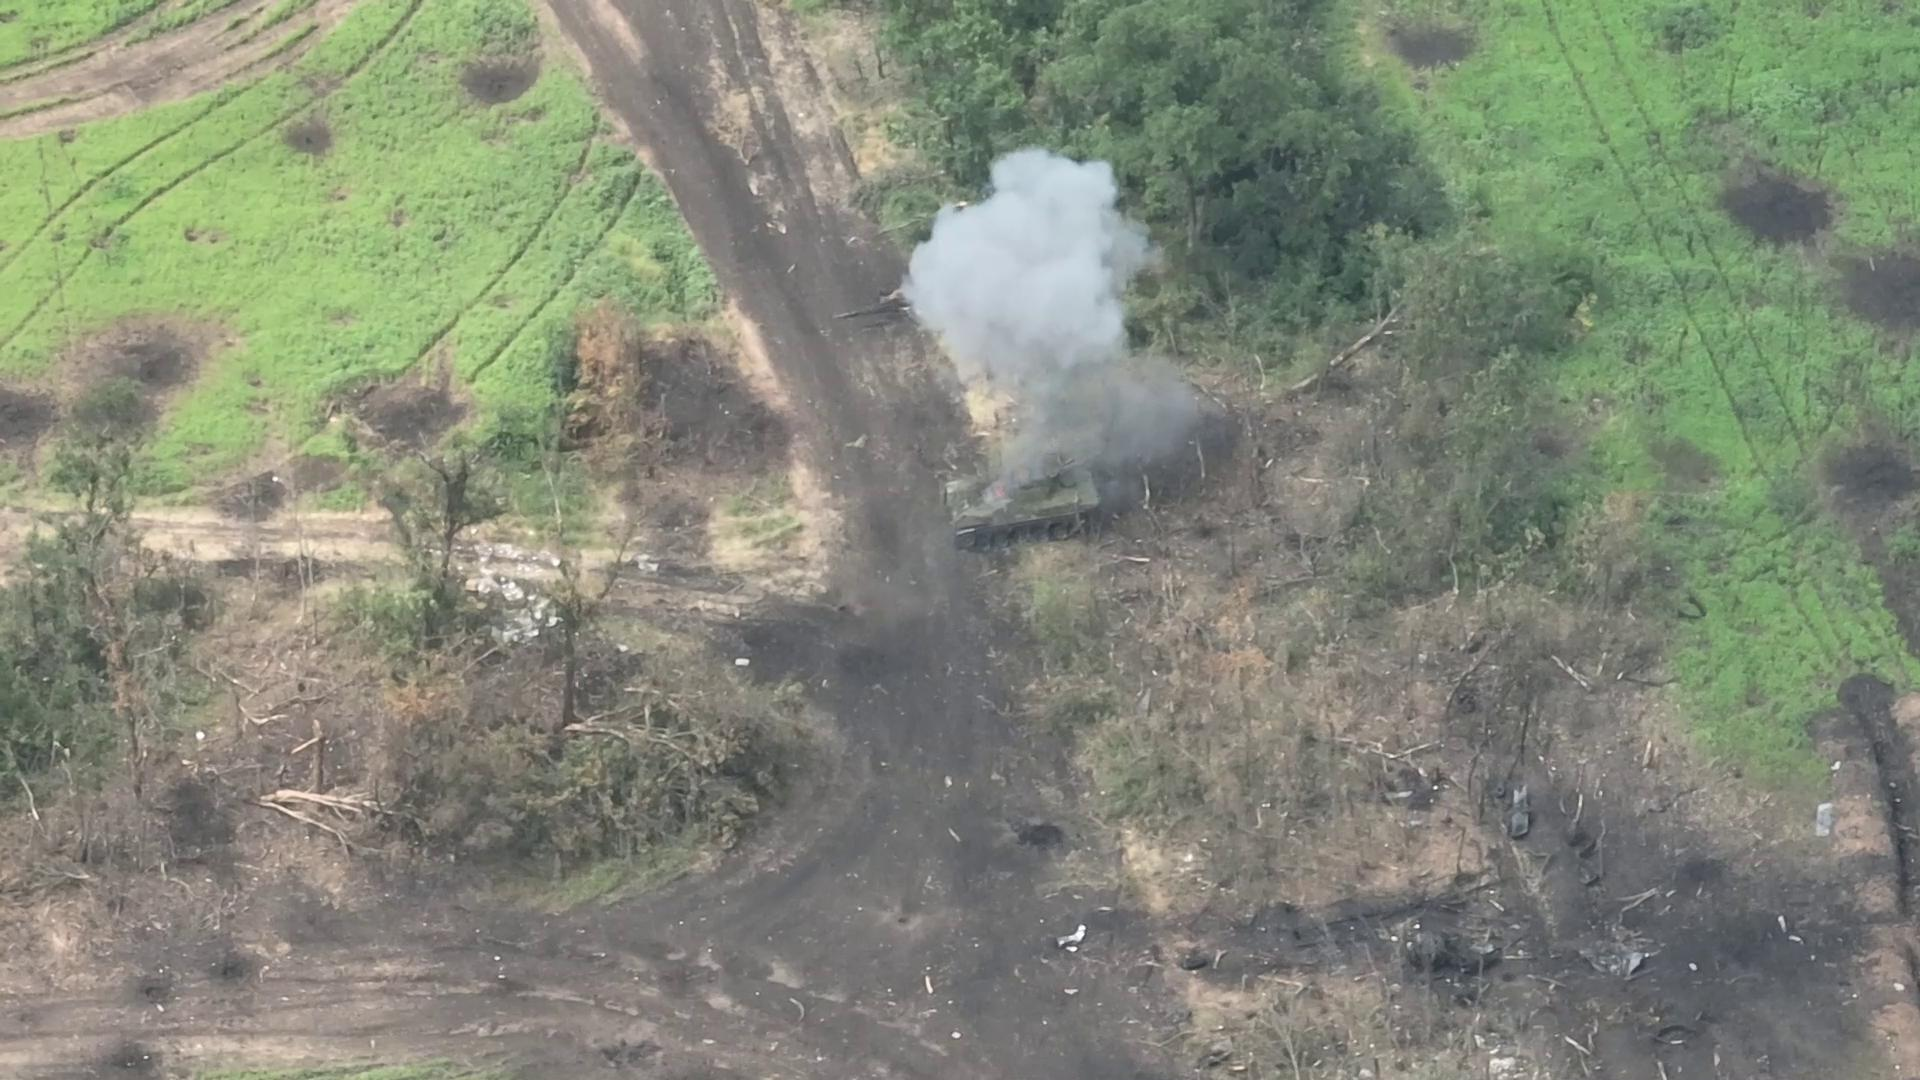tank: (939, 444, 1105, 555)
